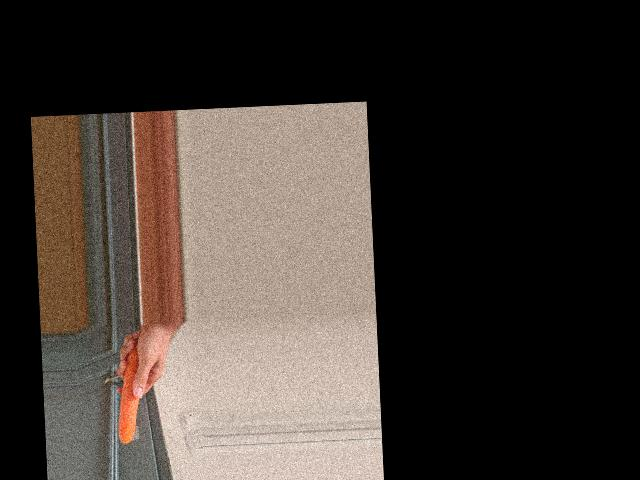carrot: (115, 337, 147, 443)
